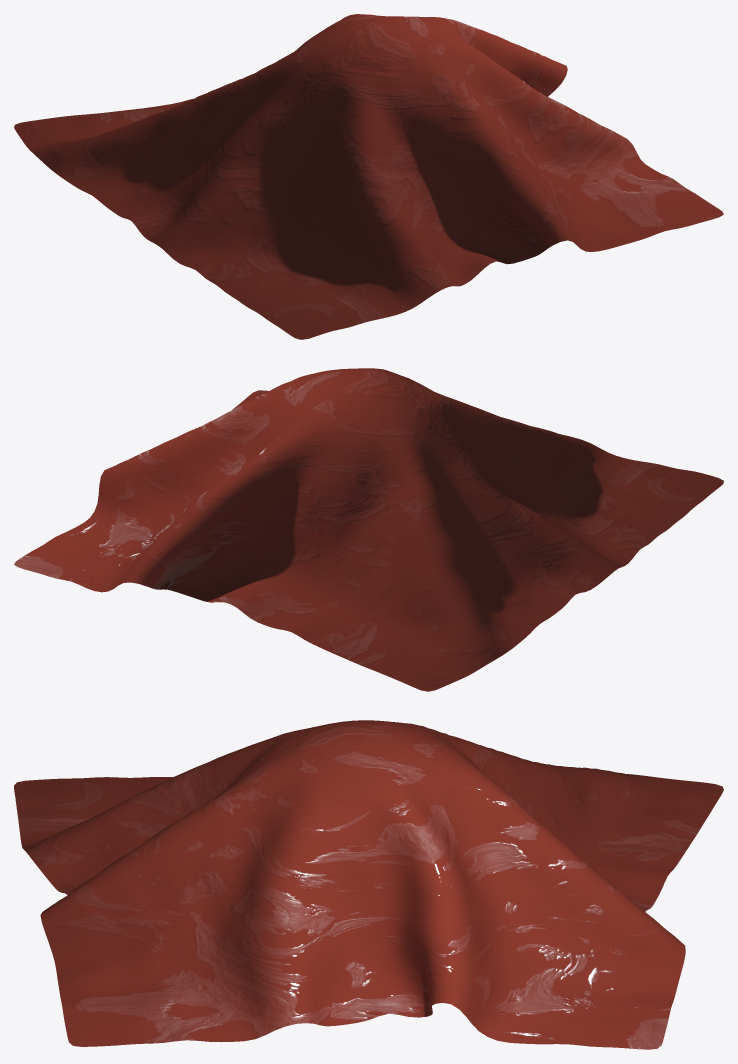
Rendered from Rag_Oiled.glb.
3 renders of one model, top to bottom at view 1: azimuth 30°, elevation 25°; view 2: azimuth 150°, elevation 25°; view 3: azimuth 270°, elevation 25°, orthographic. The views are drawn at different scales.
Visible parts, largest first — view 1: Plane; view 2: Plane; view 3: Plane.
Boxes of the visible parts, x1,y1,x2,y2 form: Plane: (14,14,723,339); Plane: (14,368,723,691); Plane: (14,720,723,1049).
Bounding box in the file's own units: 4.28 × 1.31 × 4.64.
Materials: 1 (1 with a texture image).
